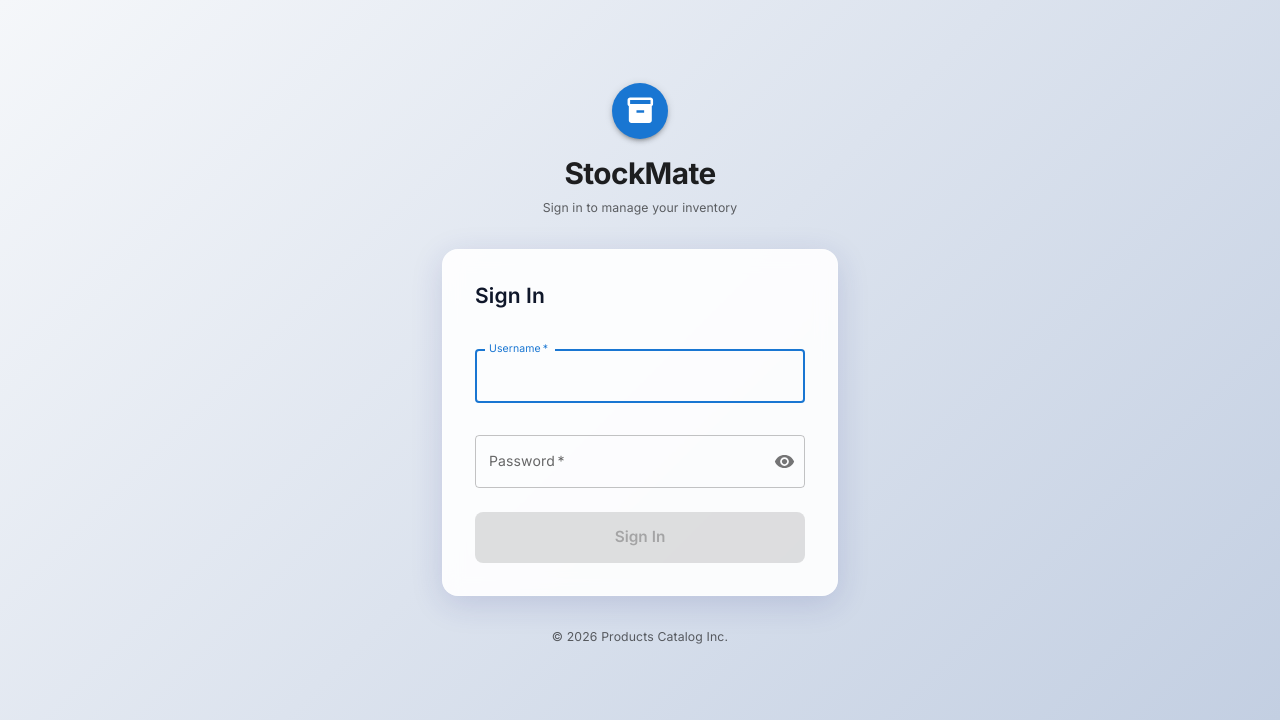
Scenario: LoginPage › shows the server error when credentials are rejected
The width and height of the screenshot is (1280, 720).
Type "admin" into the field labelled "Username *" at coordinates (640, 376), box x1=475 y1=350 x2=805 y2=403
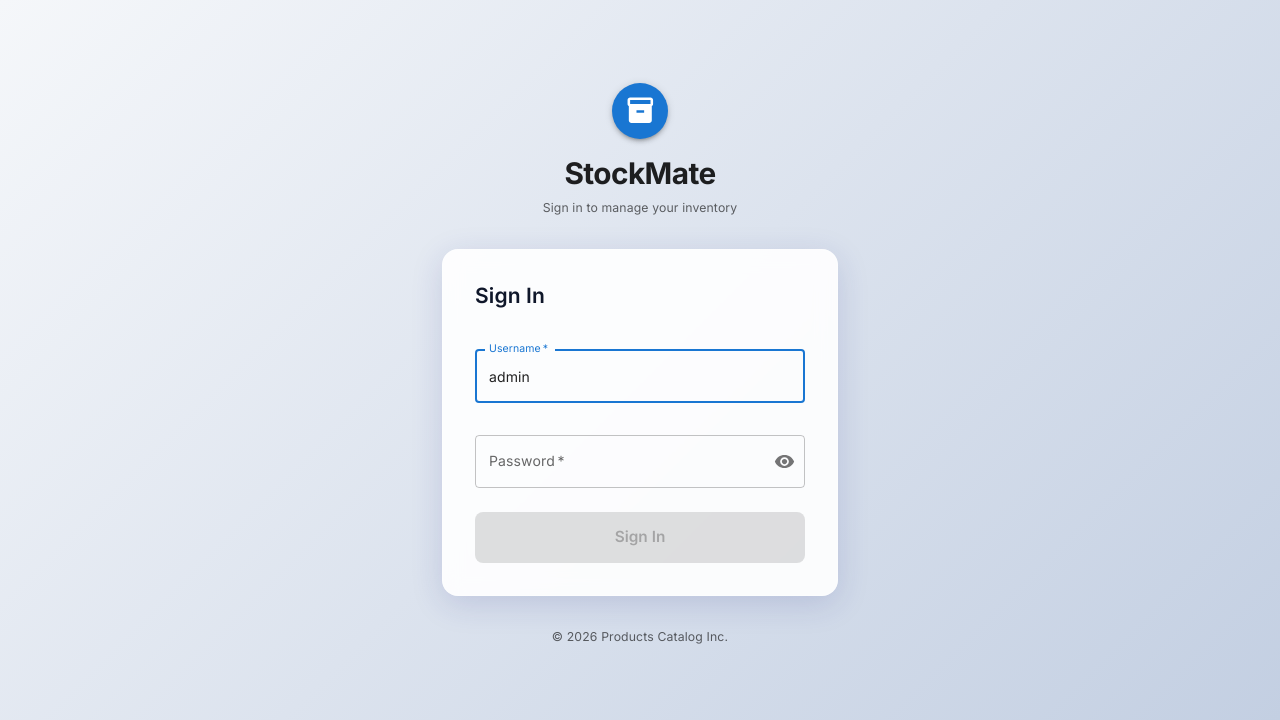
Type "wrong-password" into the password field labelled "Password *" at coordinates (616, 461), box x1=475 y1=435 x2=758 y2=488
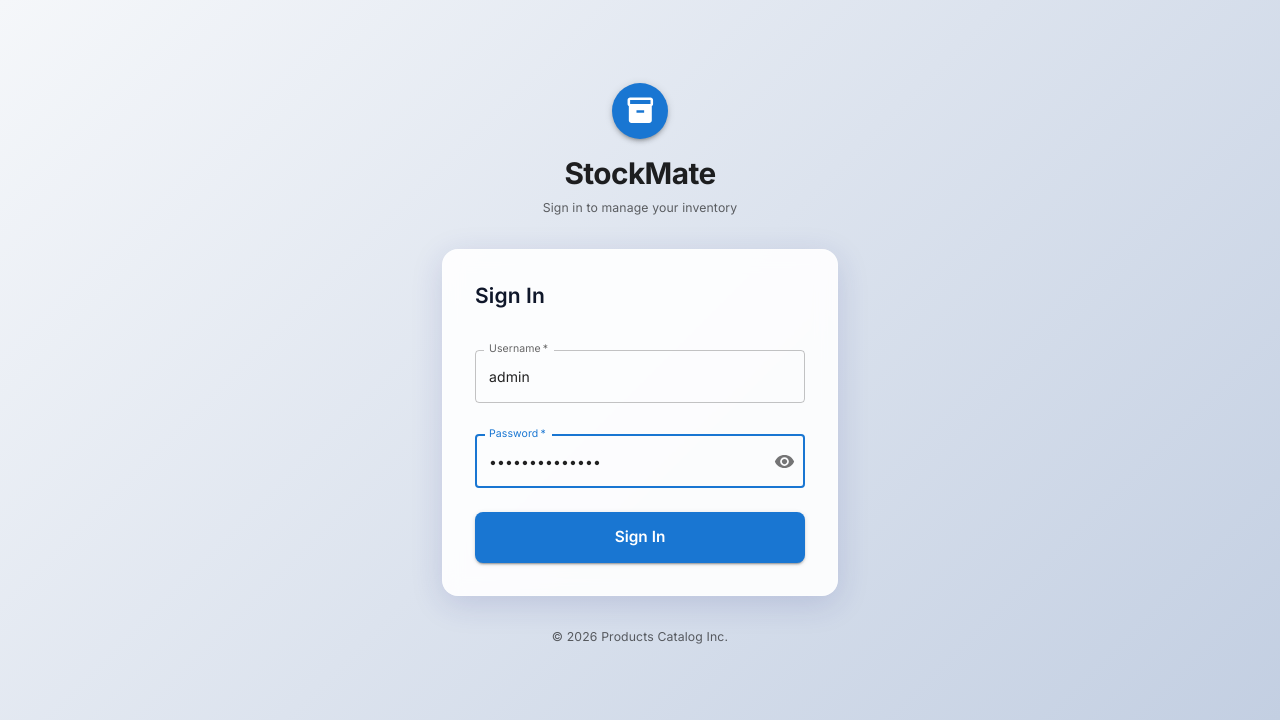
Click the button "Sign In" at coordinates (640, 538), box x1=475 y1=512 x2=805 y2=563
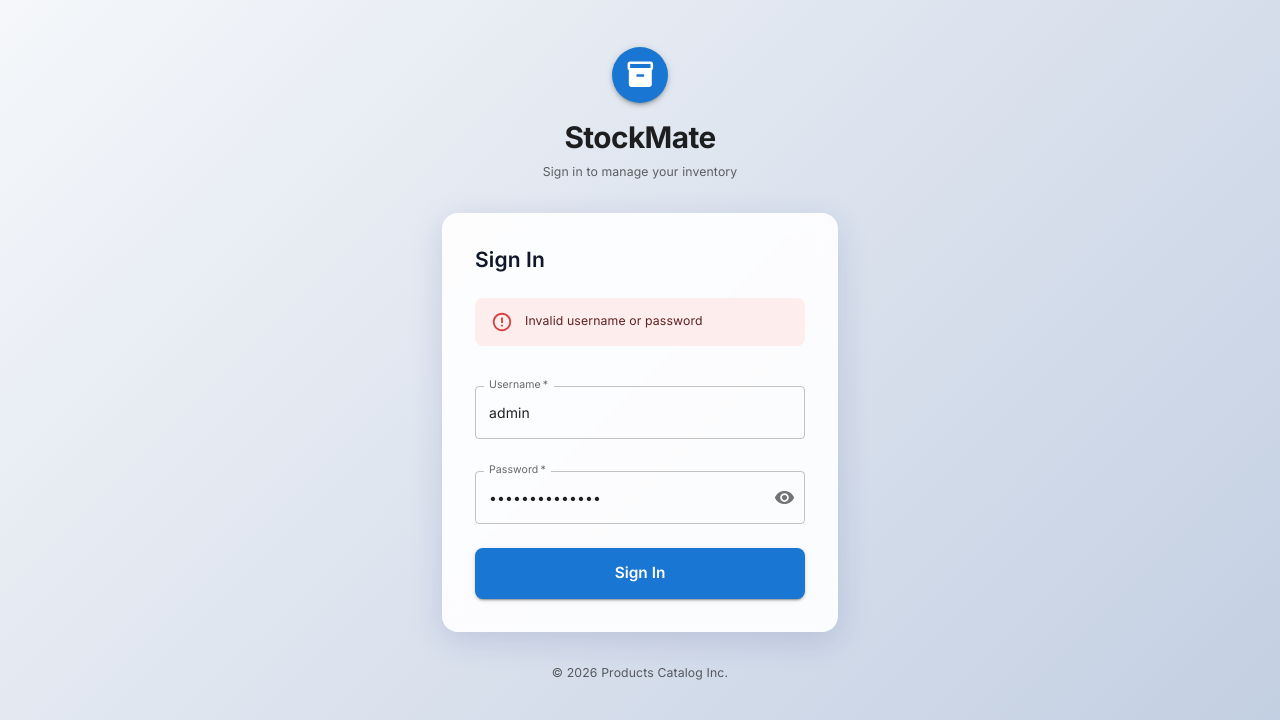
Expected: the text "Invalid username or password" is shown, x1=525 y1=313 x2=703 y2=328
